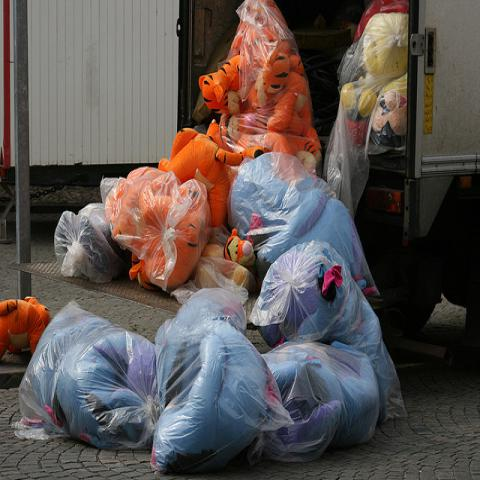truck: (178, 0, 479, 360)
